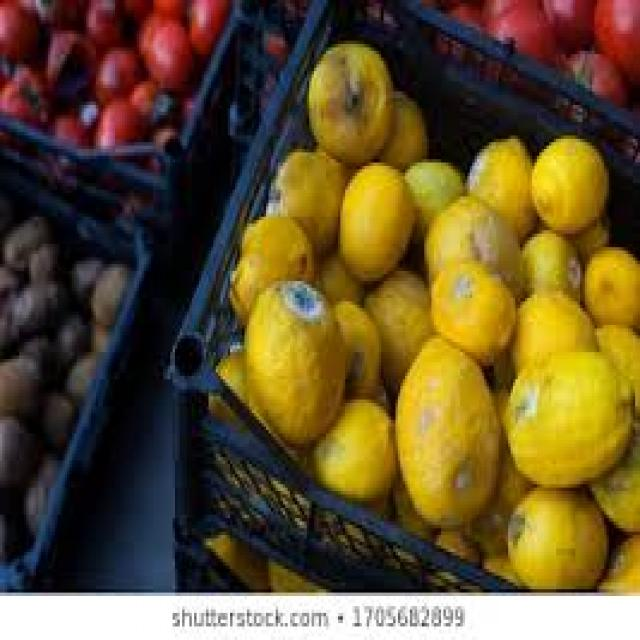organic waste: (393, 332, 496, 521), (498, 345, 632, 481), (242, 278, 343, 447), (503, 478, 609, 589), (458, 383, 527, 545), (305, 37, 393, 159), (491, 288, 597, 386), (420, 190, 520, 288), (338, 159, 417, 281), (309, 393, 396, 498), (426, 254, 511, 359), (362, 264, 429, 393), (225, 214, 312, 312), (528, 132, 606, 227), (266, 146, 338, 247), (465, 132, 530, 240), (552, 41, 624, 136), (479, 0, 554, 88), (587, 413, 638, 528), (206, 349, 271, 437), (400, 152, 460, 244), (137, 14, 201, 98), (328, 294, 379, 392), (582, 240, 638, 322), (590, 318, 638, 413), (520, 227, 580, 301), (376, 88, 427, 163), (206, 528, 273, 582), (592, 0, 638, 78), (436, 0, 489, 61), (0, 210, 53, 271), (0, 413, 36, 501), (534, 213, 609, 254), (91, 95, 144, 152), (0, 61, 46, 125), (0, 0, 48, 61), (19, 451, 60, 522), (91, 44, 137, 102), (542, 0, 594, 51), (88, 261, 136, 315), (43, 24, 86, 84), (84, 0, 134, 51), (15, 328, 58, 386), (592, 528, 638, 582), (43, 91, 91, 142), (34, 386, 74, 447), (0, 352, 38, 416), (316, 247, 362, 298), (26, 271, 67, 328), (480, 535, 522, 582), (269, 552, 321, 589), (190, 0, 232, 44), (0, 288, 29, 349), (70, 247, 103, 298), (429, 521, 479, 552), (312, 139, 350, 179), (22, 237, 58, 278), (55, 308, 86, 352), (618, 88, 638, 156), (125, 81, 158, 122), (146, 119, 178, 159), (62, 349, 91, 393), (48, 0, 86, 24), (148, 88, 172, 122), (0, 264, 22, 295), (151, 0, 187, 17), (120, 0, 151, 17), (89, 322, 110, 342)
